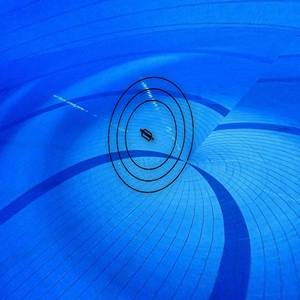circle: (103, 72, 202, 197)
submarine: (137, 124, 157, 145)
